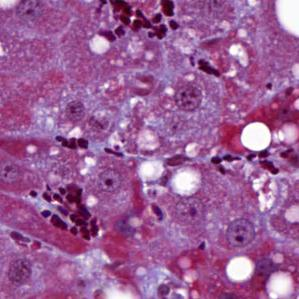inflammation: (246, 147, 282, 177), (211, 149, 246, 176), (51, 132, 92, 153), (188, 54, 222, 78)
